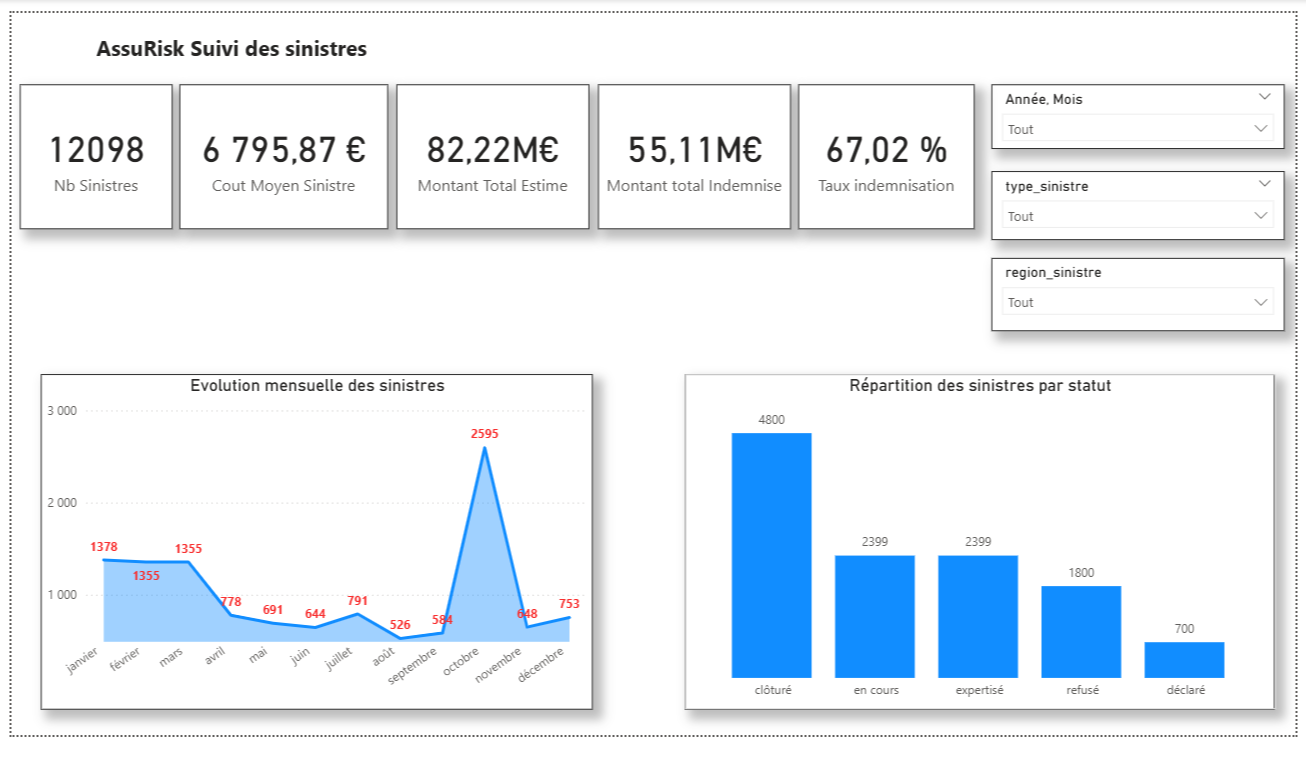

This screenshot's page, from the dashboard's own definition file:
{"tool":"powerbi","page":{"name":"Vue globale","canvas":[1280,720],"ordinal":0},"visuals":[{"type":"columnChart","title":"Répartition des sinistres par statut","fields":{"Y":["CountNonNull(public fact_sinistre_meteo.sinistre_id)"],"Category":["public fact_sinistre_meteo.statut_sinistre"]},"box":[671.7,360,588,334],"z":0},{"type":"slicer","title":"Nombre de sinistre par date survenance","fields":{"Values":["Dim_Date.Date.Variation.Hiérarchie de dates.Année","Dim_Date.Date.Variation.Hiérarchie de dates.Mois"]},"box":[977.3,71.6,292,64],"z":1000},{"type":"card","fields":{"Values":["_Mesures.Nb Sinistres"]},"box":[7.7,71.6,152,144],"z":2000},{"type":"card","fields":{"Values":["_Mesures.Cout Moyen Sinistre"]},"box":[168,71.6,208,144],"z":3000},{"type":"card","fields":{"Values":["_Mesures.Montant Total Estime"]},"box":[384.3,71.6,192,144],"z":4000},{"type":"card","fields":{"Values":["_Mesures.Montant total Indemnise"]},"box":[584.6,71.6,192,144],"z":5000},{"type":"card","fields":{"Values":["_Mesures.Taux indemnisation"]},"box":[784.8,71.6,176,144],"z":6000},{"type":"slicer","fields":{"Values":["public fact_sinistre_meteo.type_sinistre"]},"box":[977.3,157.5,292,68.7],"z":7000},{"type":"slicer","fields":{"Values":["public fact_sinistre_meteo.region_sinistre"]},"box":[977.3,244.8,292,72.6],"z":8000},{"type":"areaChart","title":"Evolution mensuelle des sinistres","fields":{"Y":["CountNonNull(public fact_sinistre_meteo.sinistre_id)"],"Category":["Dim_Date.Date.Variation.Hiérarchie de dates.Mois"]},"box":[30,360,550,334],"z":9000},{"type":"textbox","box":[80,16,976,48],"z":9002}]}

Visuals, with their boxes in screenshot pixels (x1, y1, x2, y2):
"Répartition des sinistres par statut" columnChart: box(683, 372, 1274, 709)
"Nombre de sinistre par date survenance" slicer: box(990, 82, 1284, 147)
card - _Mesures.Nb Sinistres: box(15, 82, 167, 227)
card - _Mesures.Cout Moyen Sinistre: box(176, 82, 385, 227)
card - _Mesures.Montant Total Estime: box(393, 82, 587, 227)
card - _Mesures.Montant total Indemnise: box(595, 82, 788, 227)
card - _Mesures.Taux indemnisation: box(796, 82, 974, 227)
slicer - public fact_sinistre_meteo.type_sinistre: box(990, 169, 1284, 238)
slicer - public fact_sinistre_meteo.region_sinistre: box(990, 257, 1284, 330)
"Evolution mensuelle des sinistres" areaChart: box(37, 372, 590, 709)
textbox: box(87, 26, 1069, 75)
